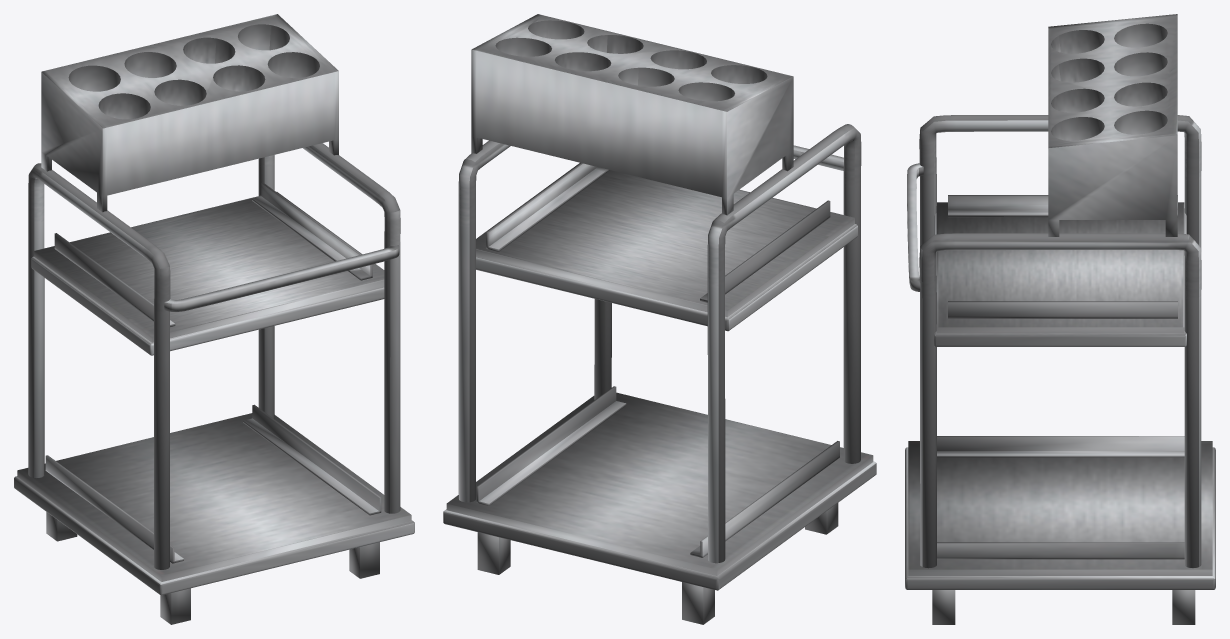
Rendered from TrayCart.obj.
3 renders of one model, left to right at view 1: azimuth 30°, elevation 25°; view 2: azimuth 150°, elevation 25°; view 3: azimuth 270°, elevation 25°, orthographic. The views are drawn at different scales.
Parts seen in each view (by area): view 1: TrayCart.obj; view 2: TrayCart.obj; view 3: TrayCart.obj.
Boxes of the visible parts, x1,y1,x2,y2 form: TrayCart.obj: [14, 14, 414, 624]; TrayCart.obj: [443, 14, 876, 624]; TrayCart.obj: [905, 14, 1215, 624].
Bounding box in the file's own units: 83.99 × 148 × 83.99.
